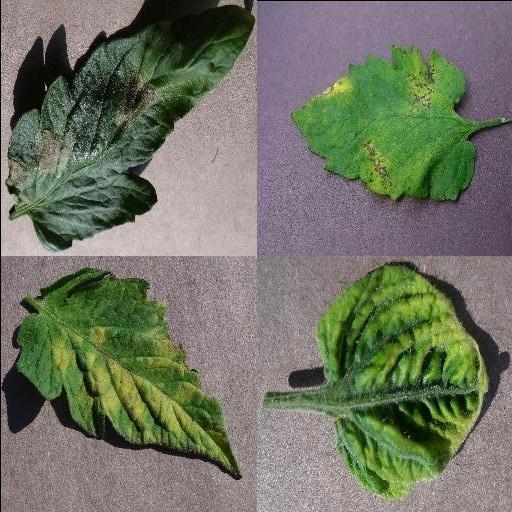Late Blight: (5, 5, 255, 253)
Leaf Mold: (12, 270, 240, 480)
Septoria: (288, 42, 474, 202)
Yellow Leaf Curl Virus: (317, 263, 489, 498)
